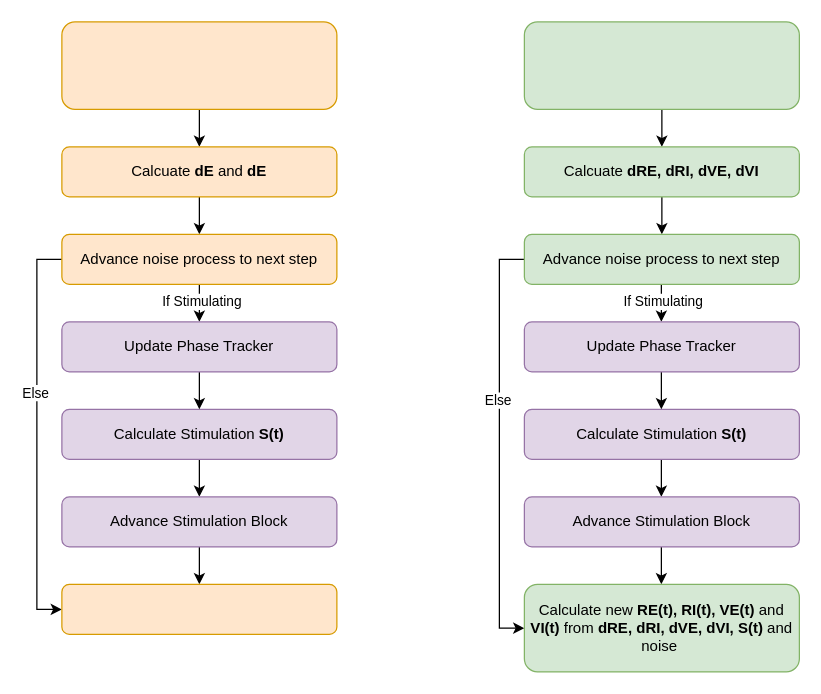
The diagram is 821 pixels wide and 694 high, and some of its shapes have lost their labels. Each missing label, with the centre of its shape:
Calculate new E(t) and I(t) from dE , dI, S(t) and noise: (x=199, y=608)
Retrieve Excitatory Activity from Opposing Node E 2 where current node = 1: (x=199, y=65)
Retrieve Excitatory Voltage from Opposing Node VE 2: (x=661, y=65)
